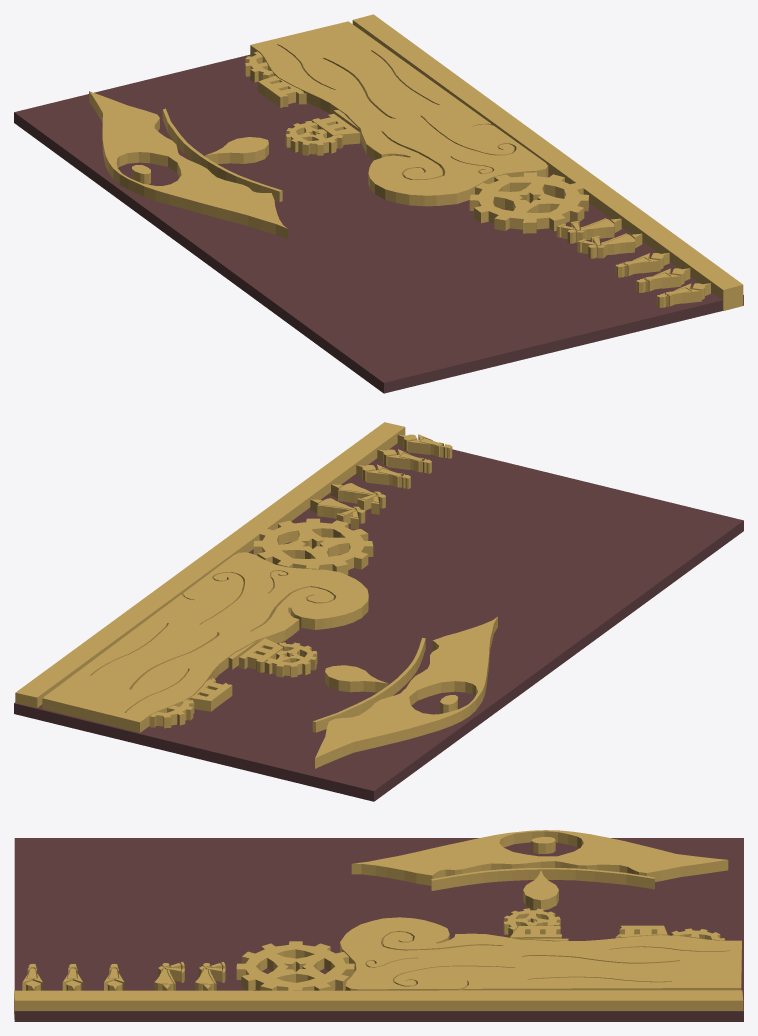
Rendered from fresque_5.fbx.
3 renders of one model, top to bottom at view 1: azimuth 30°, elevation 25°; view 2: azimuth 150°, elevation 25°; view 3: azimuth 270°, elevation 25°, orthographic.
Parts seen in each view (by area): view 1: Plane.001, Plane; view 2: Plane.001, Plane; view 3: Plane.001, Plane.
Boxes of the visible parts, box(x1,y1,x2,y2) form: Plane.001: box(14, 54, 743, 393); Plane: box(89, 14, 743, 310); Plane.001: box(14, 443, 743, 801); Plane: box(15, 422, 497, 768); Plane.001: box(14, 838, 743, 1021); Plane: box(14, 830, 743, 1018).
Bounding box in the file's own units: 281 × 16.12 × 500.
